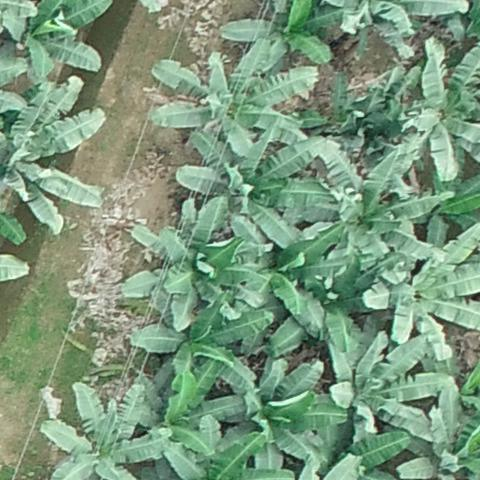Banana-plant: (306, 139, 455, 265), (178, 127, 329, 242), (0, 79, 103, 242), (151, 47, 315, 148), (130, 197, 257, 319), (366, 217, 480, 351), (328, 333, 454, 447), (208, 354, 343, 460), (39, 378, 163, 480), (268, 237, 371, 354), (129, 293, 273, 371), (410, 35, 480, 179), (0, 0, 112, 87), (220, 0, 342, 72), (140, 364, 243, 445)
